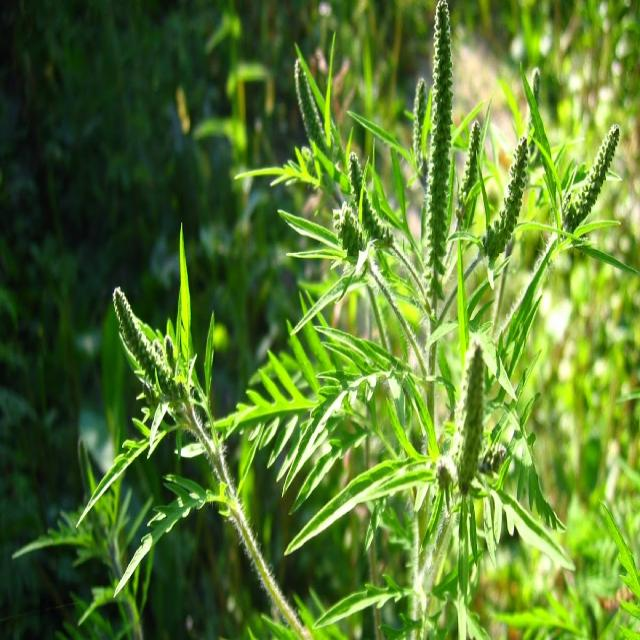ambrosia: (82, 263, 262, 553), (392, 1, 486, 353), (405, 310, 517, 560), (287, 58, 396, 293), (564, 89, 620, 253)
